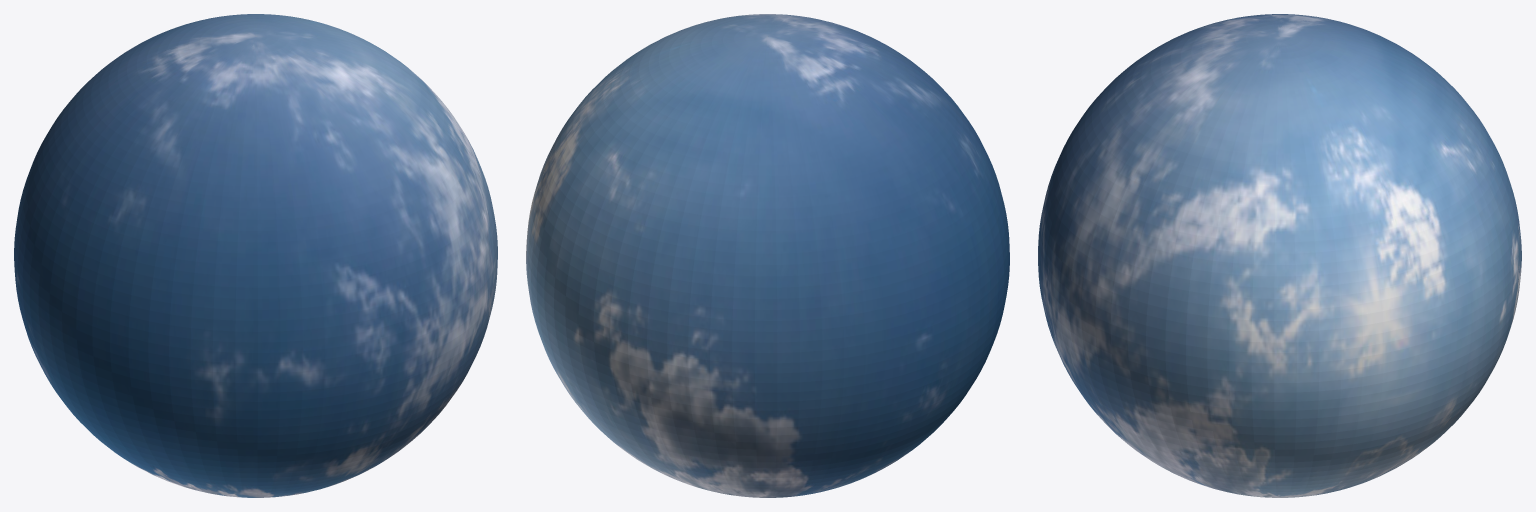
Rendered from skybox.glb.
3 renders of one model, left to right at view 1: azimuth 30°, elevation 25°; view 2: azimuth 150°, elevation 25°; view 3: azimuth 270°, elevation 25°, orthographic.
Parts seen in each view (by area): view 1: Sphere; view 2: Sphere; view 3: Sphere.
Part boxes in pixels (left/top/right/bottom): Sphere: left=14, top=14, right=497, bottom=497; Sphere: left=526, top=14, right=1009, bottom=497; Sphere: left=1038, top=14, right=1521, bottom=497.
Size of the model in its own units: 2 by 2 by 2.
Materials: 1 (1 with a texture image).
